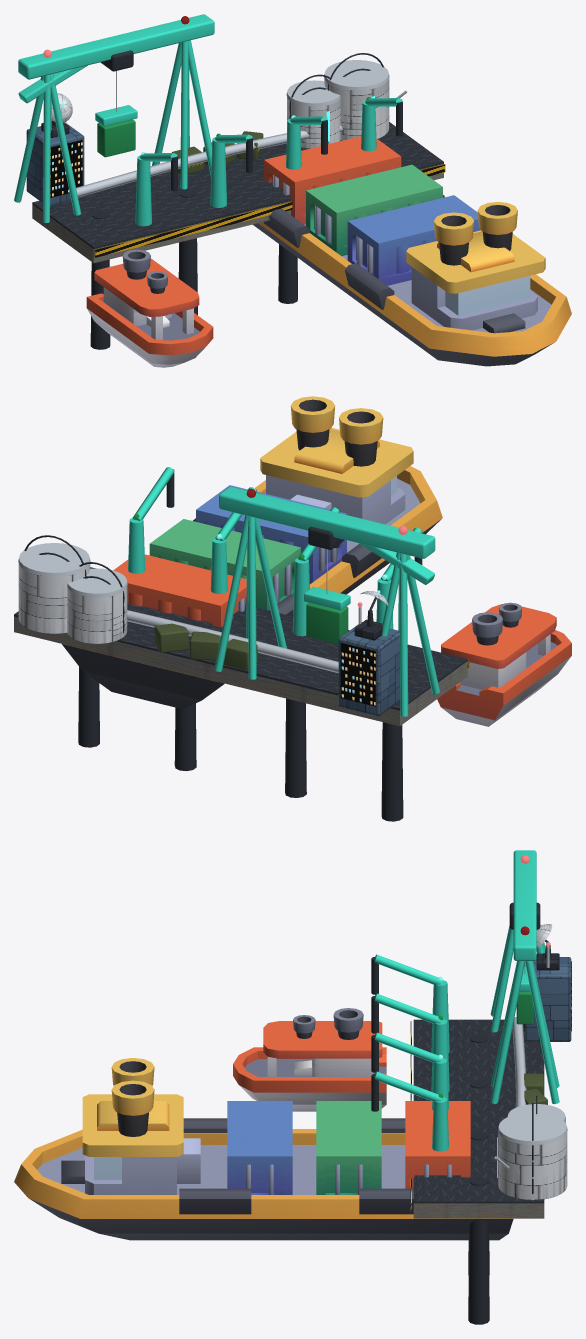
Rendered from dock-T3.glb.
The picture shows the model from 3 angles, top to bottom: view 1: azimuth 30°, elevation 25°; view 2: azimuth 150°, elevation 25°; view 3: azimuth 270°, elevation 25°; orthographic projection. The views are drawn at different scales.
Visible parts, largest first — view 1: ship-cargo-a, object 6, boat-tug-a, cargo-b, cargo-a, cargo-c, object 38, anim:trolley, object 5, object 7, object 43, object 24 (+19 smaller); view 2: ship-cargo-a, boat-tug-a, object 6, object 5, object 38, cargo-c, cargo-b, object 43, cargo-a, object 57, object 50, anim:trolley (+22 smaller); view 3: ship-cargo-a, boat-tug-a, object 6, cargo-a, cargo-b, cargo-c, object 43, object 57, object 38, object 4, object 5, object 44 (+12 smaller).
Boxes of the visible parts, x1,y1,x2,y2 form: ship-cargo-a: (253, 195, 571, 366); object 6: (32, 122, 443, 248); boat-tug-a: (86, 249, 213, 367); cargo-b: (306, 164, 442, 256); cargo-a: (347, 195, 480, 285); cargo-c: (264, 136, 401, 224); object 38: (18, 14, 214, 79); anim:trolley: (95, 50, 137, 157); object 5: (32, 163, 443, 263); object 7: (94, 164, 445, 257); object 43: (324, 78, 389, 140); object 24: (76, 125, 343, 197); ship-cargo-a: (62, 396, 442, 709); boat-tug-a: (437, 602, 571, 726); object 6: (14, 567, 467, 710); object 5: (14, 616, 467, 726); object 38: (219, 487, 435, 558); cargo-c: (113, 554, 246, 627); cargo-b: (149, 519, 300, 610); object 43: (18, 563, 90, 633); cargo-a: (196, 485, 346, 583); object 57: (338, 622, 400, 716); object 50: (67, 587, 127, 643); anim:trolley: (304, 526, 350, 644); ship-cargo-a: (14, 1058, 513, 1240); boat-tug-a: (233, 1008, 386, 1111); object 6: (413, 1019, 544, 1203); cargo-a: (227, 1101, 292, 1194); cargo-b: (316, 1101, 381, 1194); cargo-c: (405, 1101, 470, 1188); object 43: (498, 1132, 567, 1199); object 57: (525, 957, 571, 1041); object 38: (513, 850, 536, 960); object 4: (468, 1177, 489, 1324); object 5: (413, 1203, 544, 1218); object 44: (498, 1112, 567, 1144).
Bounding box in the file's own units: 5.95 × 4.39 × 7.26.
Materials: 22 (9 with a texture image).
